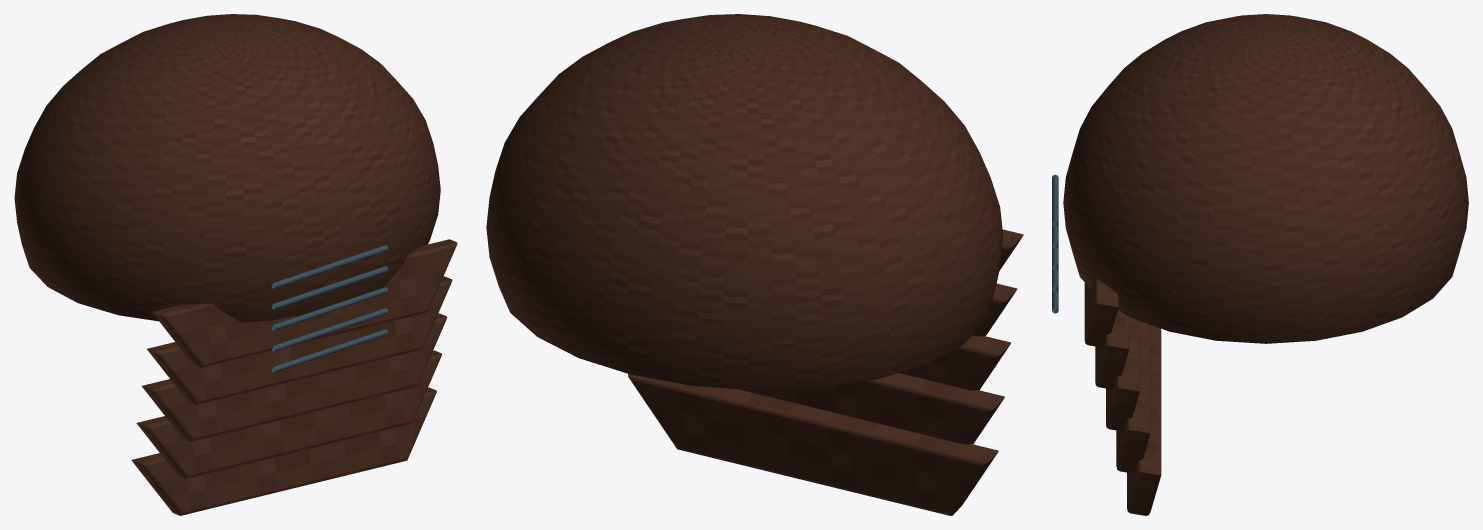
The picture shows the model from 3 angles, left to right: view 1: azimuth 30°, elevation 25°; view 2: azimuth 150°, elevation 25°; view 3: azimuth 270°, elevation 25°; orthographic projection. The views are drawn at different scales.
Parts seen in each view (by area): view 1: leather.0, leather.1, leather.5, leather.3, leather.4, leather.2, cloth.7, cloth.8, cloth.6, cloth.9, cloth.10; view 2: leather.0, leather.5, leather.4, leather.3, leather.2; view 3: leather.0, leather.5, leather.4, leather.3, leather.1, leather.2.
Part boxes in pixels (x1=…): leather.0: x1=14, y1=14, x2=440, y2=322; leather.1: x1=152, y1=239, x2=457, y2=367; leather.5: x1=131, y1=387, x2=436, y2=515; leather.3: x1=142, y1=313, x2=447, y2=441; leather.4: x1=136, y1=350, x2=441, y2=478; leather.2: x1=147, y1=276, x2=452, y2=404; cloth.7: x1=271, y1=308, x2=388, y2=351; cloth.8: x1=271, y1=287, x2=388, y2=330; cloth.6: x1=271, y1=329, x2=388, y2=372; cloth.9: x1=271, y1=266, x2=388, y2=309; cloth.10: x1=271, y1=245, x2=388, y2=288; leather.0: x1=486, y1=14, x2=1003, y2=390; leather.5: x1=628, y1=374, x2=998, y2=515; leather.4: x1=738, y1=373, x2=1004, y2=444; leather.3: x1=899, y1=335, x2=1010, y2=390; leather.2: x1=973, y1=283, x2=1017, y2=336; leather.0: x1=1063, y1=14, x2=1468, y2=343; leather.5: x1=1127, y1=325, x2=1161, y2=515; leather.4: x1=1116, y1=321, x2=1150, y2=473; leather.3: x1=1106, y1=317, x2=1139, y2=431; leather.1: x1=1084, y1=278, x2=1118, y2=347; leather.2: x1=1095, y1=310, x2=1129, y2=389.
Size of the model in its own units: 0.34 by 0.3493 by 0.3145.
2 materials, 2 textured.
